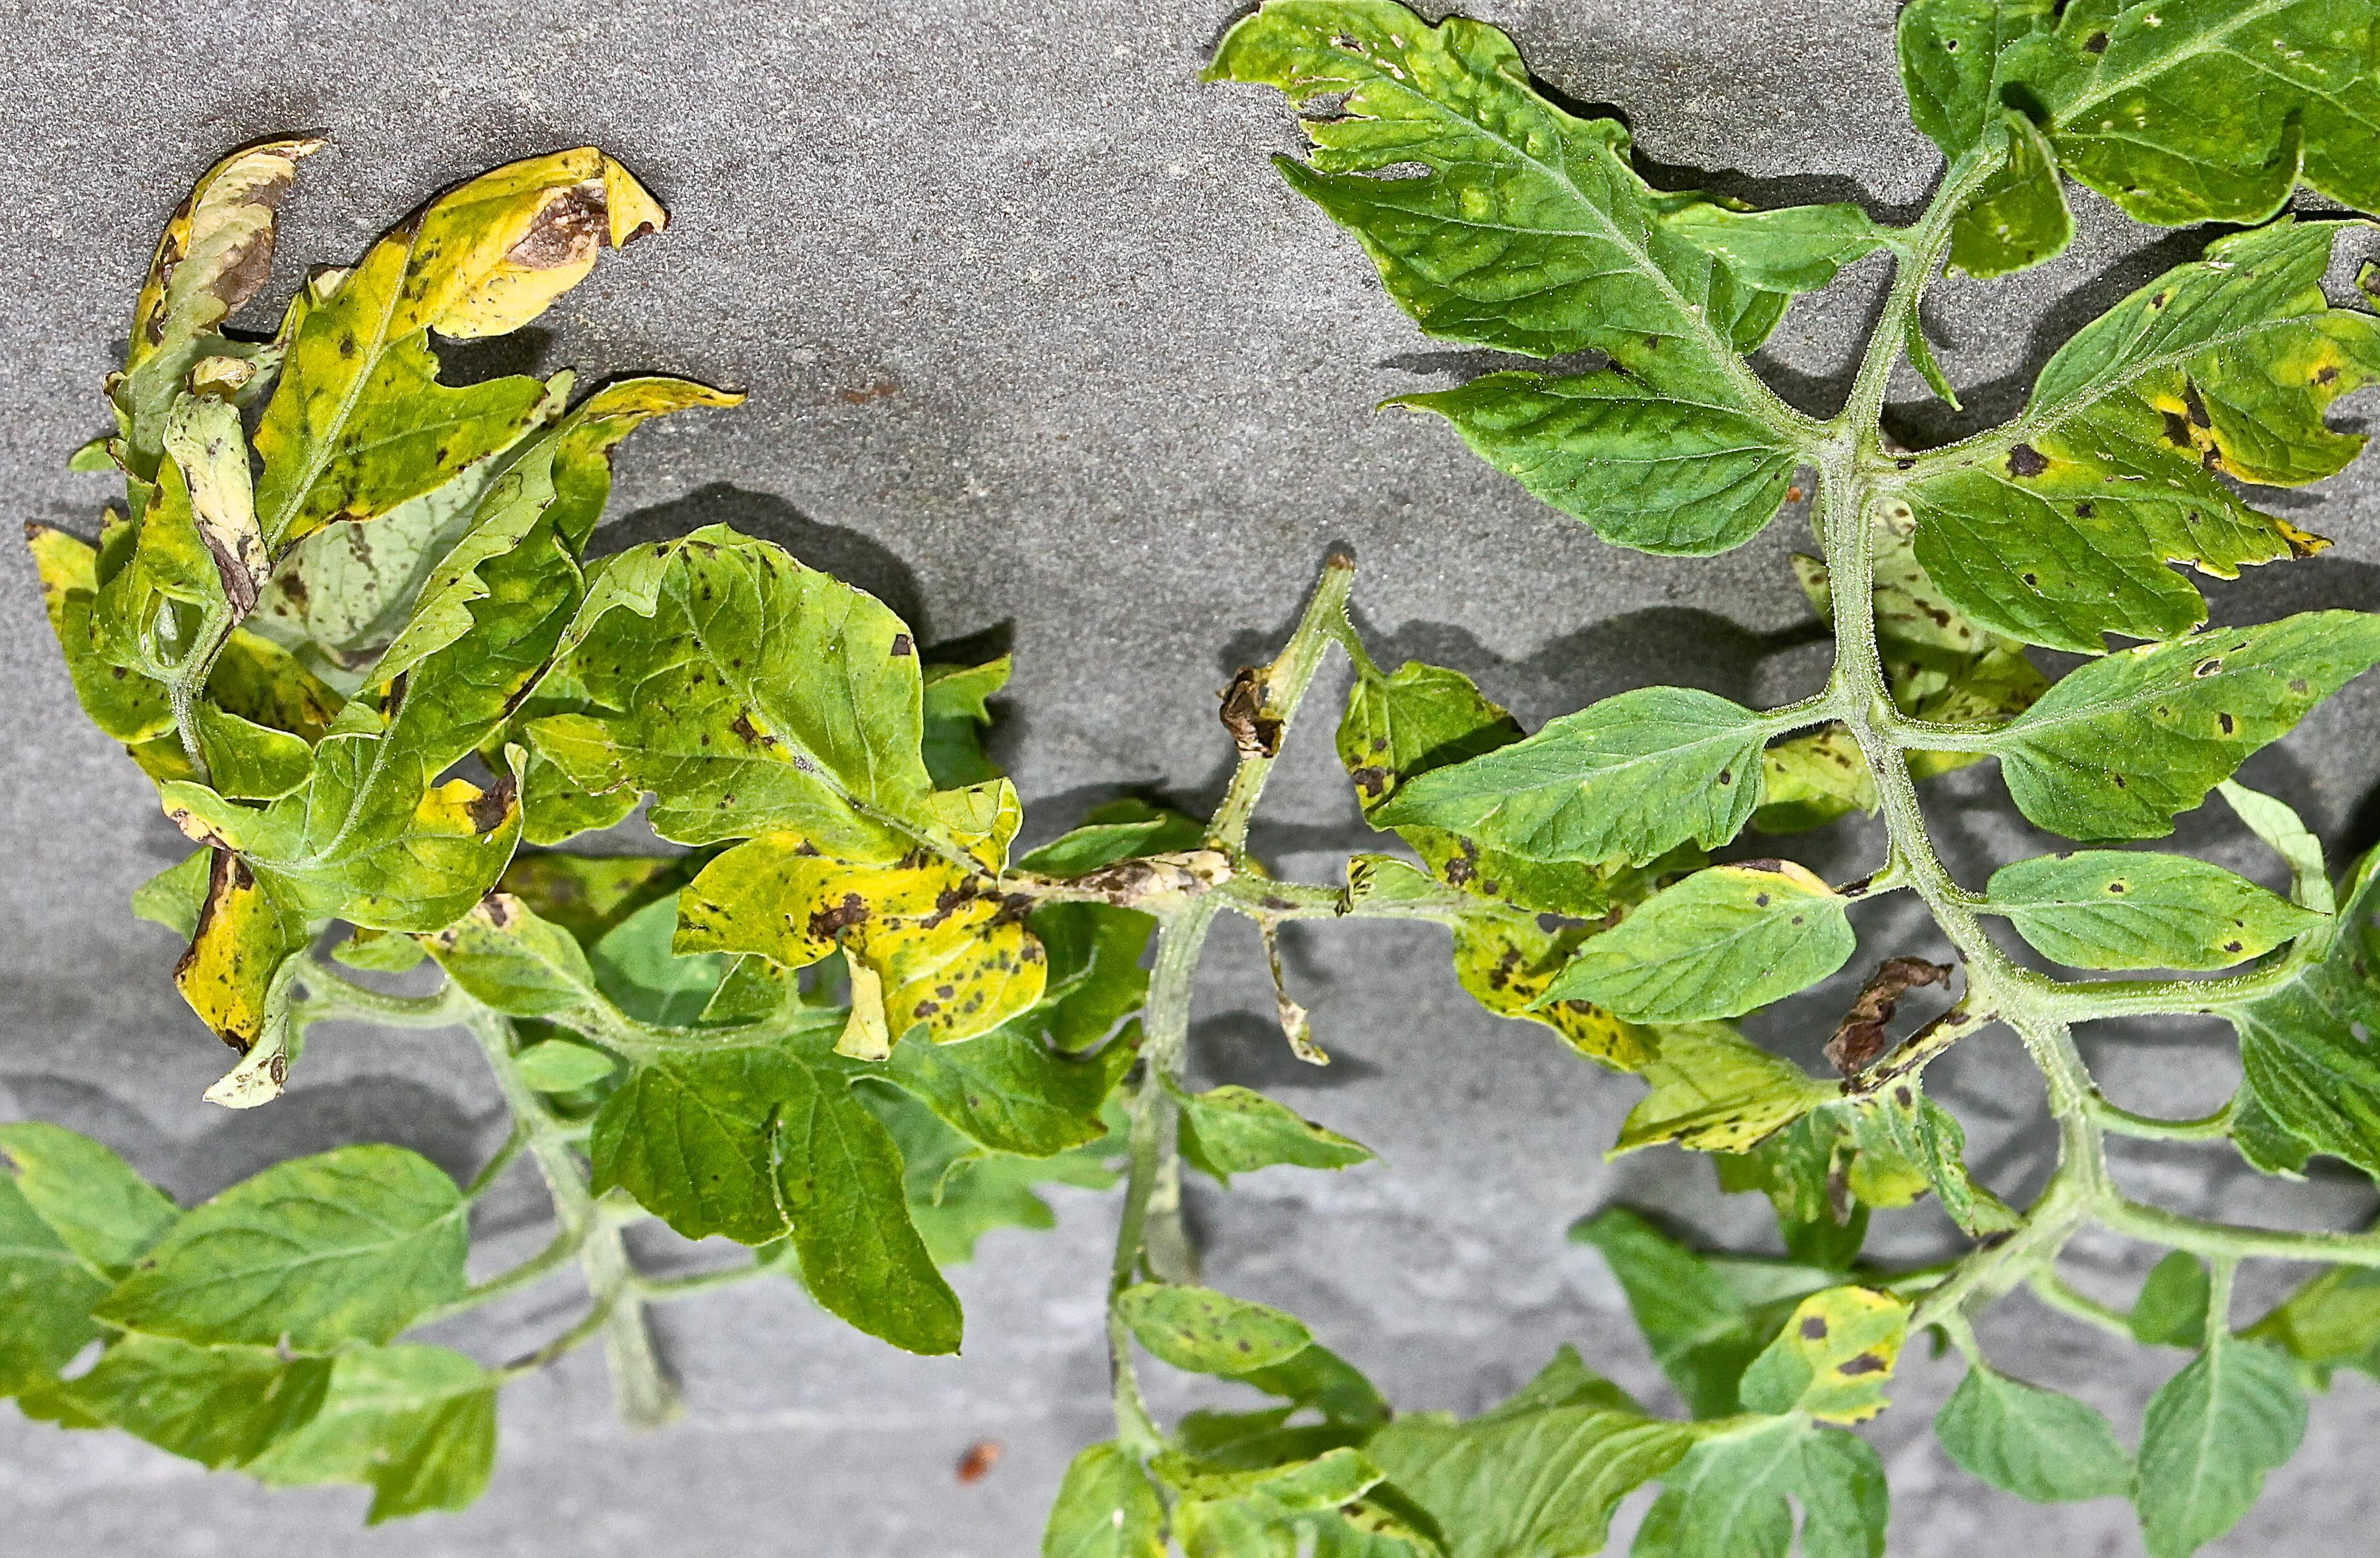Tomato Septoria leaf spot: (1187, 0, 1831, 532), (575, 543, 1102, 1024), (193, 151, 676, 626), (1886, 224, 2380, 643)
